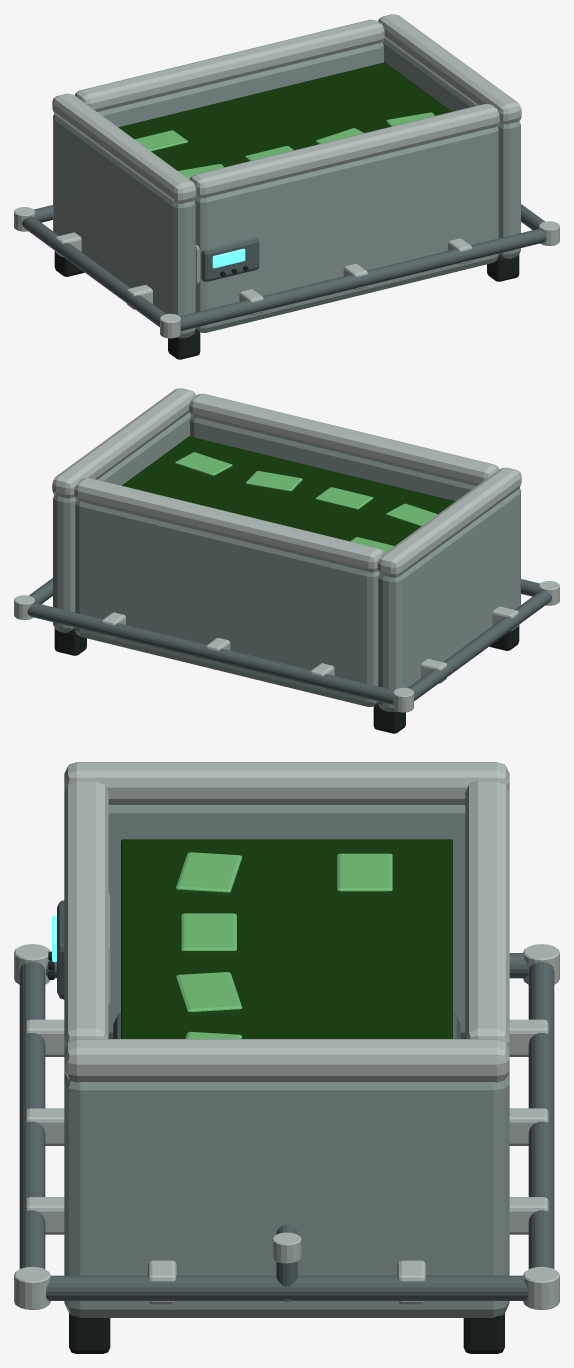
File: Petit bac de culture d algues.glb
The picture shows the model from 3 angles, top to bottom: view 1: azimuth 30°, elevation 25°; view 2: azimuth 150°, elevation 25°; view 3: azimuth 270°, elevation 25°; orthographic projection. The views are drawn at different scales.
Parts seen in each view (by area): view 1: 19_small_algae_culture_vat_Vat_Wall_Front, 19_small_algae_culture_vat_Vat_Wall_Left, 19_small_algae_culture_vat_Water_Surface, 19_small_algae_culture_vat_Reinforced_Rim_Front, 19_small_algae_culture_vat_Reinforced_Rim_Rear, 19_small_algae_culture_vat_Vat_Wall_Rear, 19_small_algae_culture_vat_Perimeter_Front, 19_small_algae_culture_vat_Vat_Wall_Right, 19_small_algae_culture_vat_Reinforced_Rim_Left, 19_small_algae_culture_vat_Reinforced_Rim_Right, 19_small_algae_culture_vat_Perimeter_Left, 19_small_algae_culture_vat_Control_Housing (+5 smaller); view 2: 19_small_algae_culture_vat_Vat_Wall_Rear, 19_small_algae_culture_vat_Vat_Wall_Left, 19_small_algae_culture_vat_Water_Surface, 19_small_algae_culture_vat_Reinforced_Rim_Rear, 19_small_algae_culture_vat_Reinforced_Rim_Front, 19_small_algae_culture_vat_Vat_Wall_Front, 19_small_algae_culture_vat_Perimeter_Rear, 19_small_algae_culture_vat_Vat_Wall_Right, 19_small_algae_culture_vat_Reinforced_Rim_Left, 19_small_algae_culture_vat_Reinforced_Rim_Right, 19_small_algae_culture_vat_Perimeter_Left, 19_small_algae_culture_vat_Algae_Mat_2 (+6 smaller); view 3: 19_small_algae_culture_vat_Vat_Wall_Right, 19_small_algae_culture_vat_Water_Surface, 19_small_algae_culture_vat_Reinforced_Rim_Right, 19_small_algae_culture_vat_Vat_Wall_Left, 19_small_algae_culture_vat_Reinforced_Rim_Left, 19_small_algae_culture_vat_Perimeter_Right, 19_small_algae_culture_vat_Reinforced_Rim_Front, 19_small_algae_culture_vat_Reinforced_Rim_Rear, 19_small_algae_culture_vat_Perimeter_Front, 19_small_algae_culture_vat_Perimeter_Rear, 19_small_algae_culture_vat_Algae_Mat_5, 19_small_algae_culture_vat_Algae_Mat_1 (+18 smaller).
Boxes of the visible parts, x1=… form: 19_small_algae_culture_vat_Vat_Wall_Front: x1=194, y1=126, x2=498, y2=332; 19_small_algae_culture_vat_Vat_Wall_Left: x1=53, y1=114, x2=195, y2=338; 19_small_algae_culture_vat_Water_Surface: x1=118, y1=62, x2=451, y2=170; 19_small_algae_culture_vat_Reinforced_Rim_Front: x1=189, y1=104, x2=499, y2=198; 19_small_algae_culture_vat_Reinforced_Rim_Rear: x1=75, y1=19, x2=384, y2=111; 19_small_algae_culture_vat_Vat_Wall_Rear: x1=97, y1=42, x2=383, y2=127; 19_small_algae_culture_vat_Perimeter_Front: x1=180, y1=228, x2=546, y2=330; 19_small_algae_culture_vat_Vat_Wall_Right: x1=383, y1=38, x2=520, y2=258; 19_small_algae_culture_vat_Reinforced_Rim_Left: x1=52, y1=93, x2=196, y2=203; 19_small_algae_culture_vat_Reinforced_Rim_Right: x1=378, y1=14, x2=521, y2=124; 19_small_algae_culture_vat_Perimeter_Left: x1=22, y1=216, x2=165, y2=327; 19_small_algae_culture_vat_Control_Housing: x1=201, y1=237, x2=259, y2=281; 19_small_algae_culture_vat_Vat_Wall_Rear: x1=75, y1=500, x2=379, y2=706; 19_small_algae_culture_vat_Vat_Wall_Left: x1=378, y1=488, x2=520, y2=712; 19_small_algae_culture_vat_Water_Surface: x1=122, y1=436, x2=455, y2=545; 19_small_algae_culture_vat_Reinforced_Rim_Rear: x1=74, y1=478, x2=384, y2=572; 19_small_algae_culture_vat_Reinforced_Rim_Front: x1=189, y1=393, x2=498, y2=485; 19_small_algae_culture_vat_Vat_Wall_Front: x1=190, y1=416, x2=476, y2=501; 19_small_algae_culture_vat_Perimeter_Rear: x1=27, y1=602, x2=393, y2=704; 19_small_algae_culture_vat_Vat_Wall_Right: x1=53, y1=412, x2=190, y2=632; 19_small_algae_culture_vat_Reinforced_Rim_Left: x1=377, y1=467, x2=521, y2=577; 19_small_algae_culture_vat_Reinforced_Rim_Right: x1=52, y1=388, x2=195, y2=498; 19_small_algae_culture_vat_Perimeter_Left: x1=408, y1=590, x2=551, y2=701; 19_small_algae_culture_vat_Algae_Mat_2: x1=315, y1=487, x2=373, y2=509; 19_small_algae_culture_vat_Vat_Wall_Right: x1=64, y1=1075, x2=509, y2=1317; 19_small_algae_culture_vat_Water_Surface: x1=121, y1=839, x2=452, y2=1038; 19_small_algae_culture_vat_Reinforced_Rim_Right: x1=64, y1=1039, x2=509, y2=1082; 19_small_algae_culture_vat_Vat_Wall_Left: x1=108, y1=805, x2=465, y2=1038; 19_small_algae_culture_vat_Reinforced_Rim_Left: x1=64, y1=762, x2=509, y2=804; 19_small_algae_culture_vat_Perimeter_Right: x1=46, y1=1275, x2=527, y2=1300; 19_small_algae_culture_vat_Reinforced_Rim_Front: x1=64, y1=781, x2=108, y2=1050; 19_small_algae_culture_vat_Reinforced_Rim_Rear: x1=465, y1=781, x2=509, y2=1050; 19_small_algae_culture_vat_Perimeter_Front: x1=19, y1=962, x2=45, y2=1268; 19_small_algae_culture_vat_Perimeter_Rear: x1=528, y1=962, x2=554, y2=1268; 19_small_algae_culture_vat_Algae_Mat_5: x1=337, y1=853, x2=392, y2=891; 19_small_algae_culture_vat_Algae_Mat_1: x1=176, y1=852, x2=242, y2=892.
Size of the model in its own units: 2.52 by 1.06 by 1.72.
